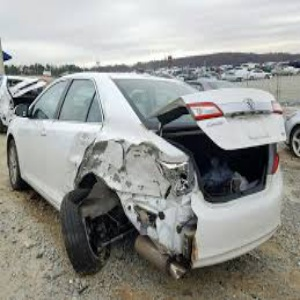bumper: (128, 176, 214, 278)
